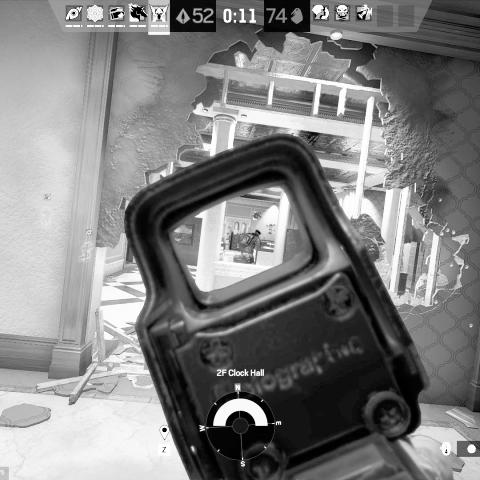Character: (240, 229, 261, 265)
Friend_label: (32, 193, 61, 211), (245, 210, 270, 229), (78, 228, 102, 244)
Head: (254, 229, 261, 236)
